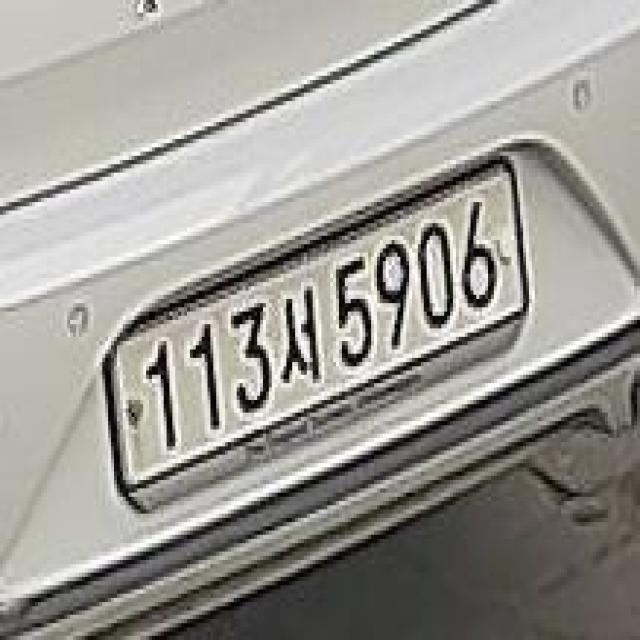illegal_plate: (104, 155, 536, 517)
